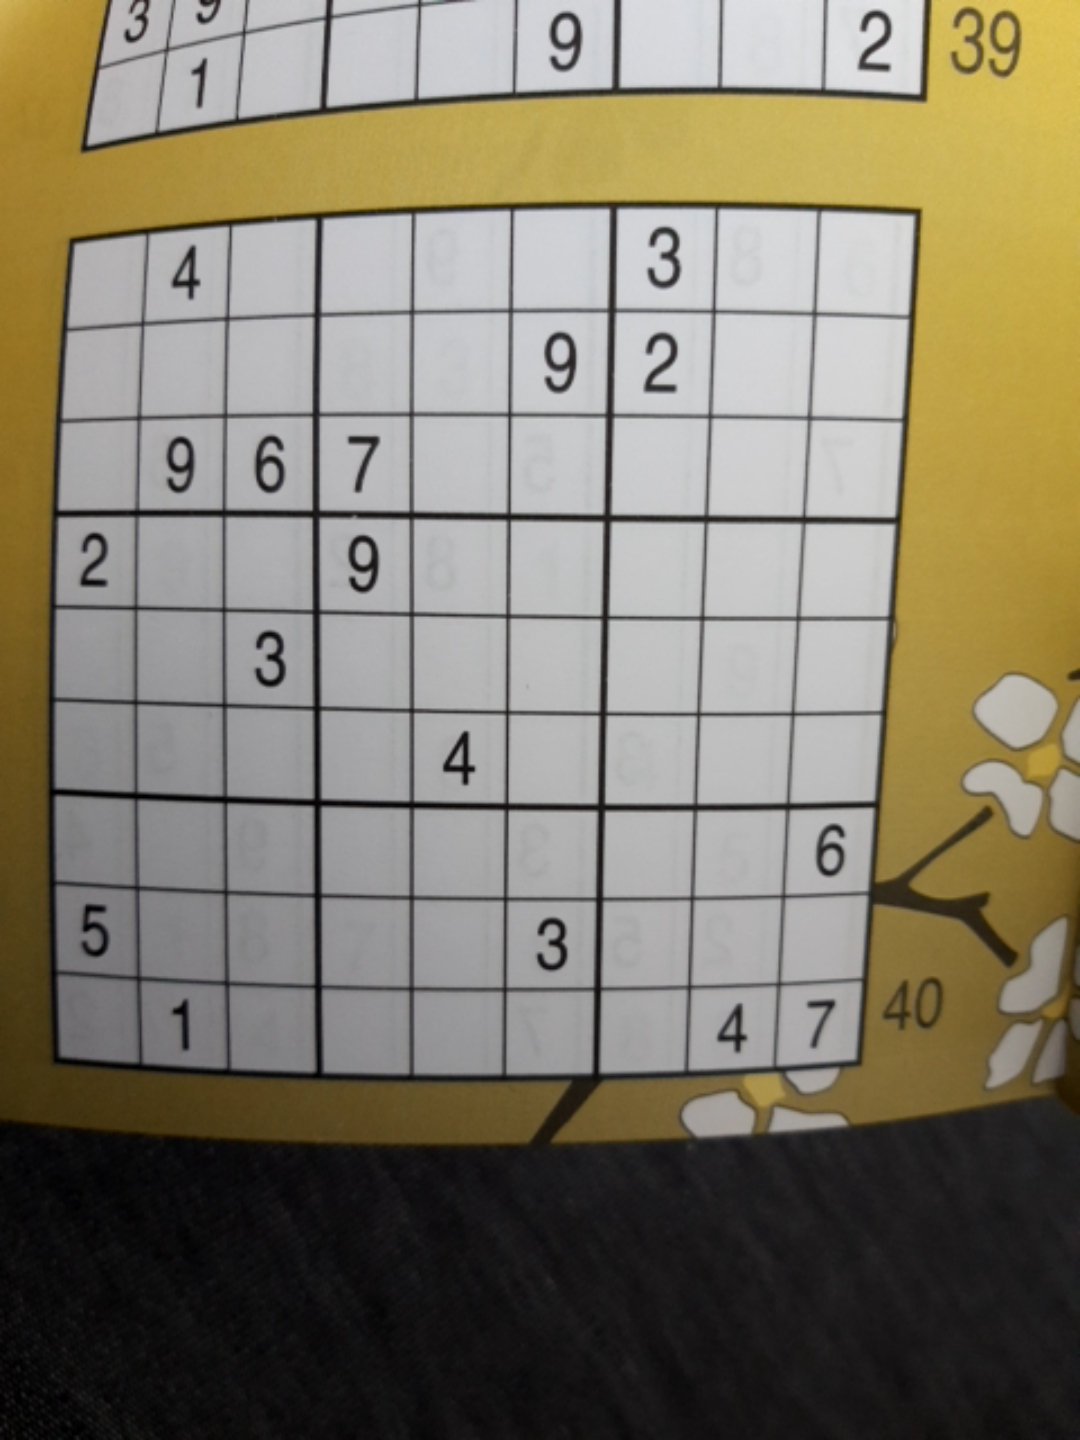sudoku: (43, 199, 925, 1066)
